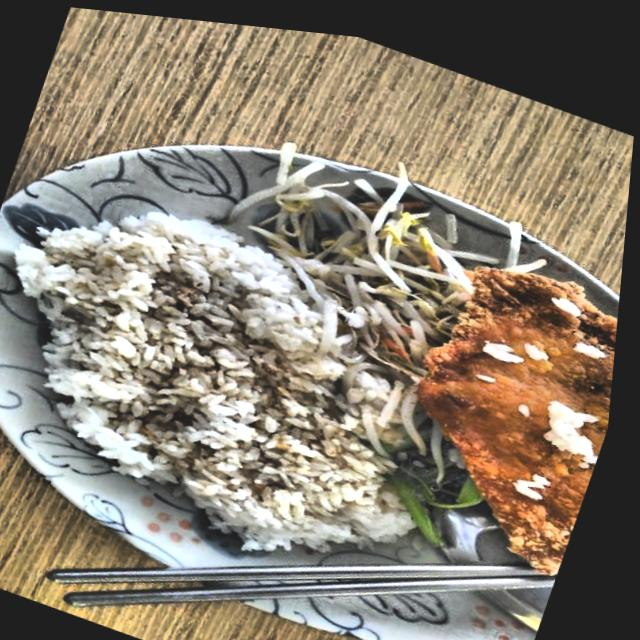Food: (74, 253, 393, 507), (413, 244, 625, 540), (279, 183, 479, 325)
